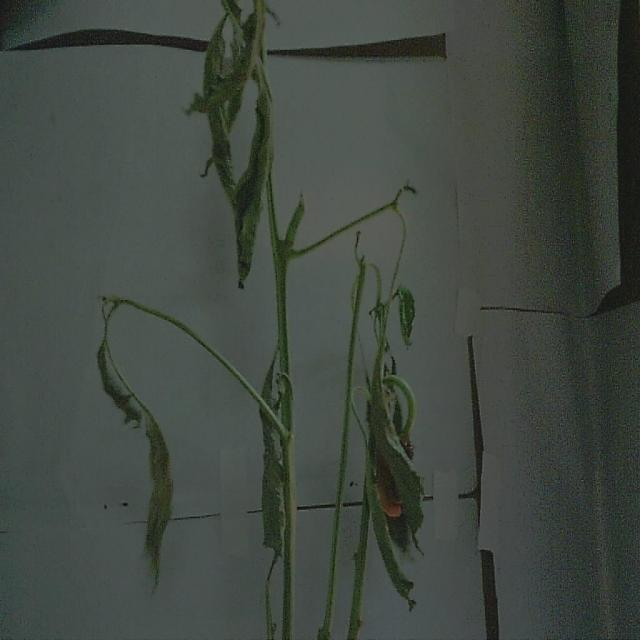Leaf: (232, 73, 274, 280), (368, 474, 419, 612), (142, 408, 172, 592), (259, 374, 288, 555), (97, 313, 137, 420), (198, 7, 236, 118), (237, 1, 274, 72), (396, 283, 414, 347)
